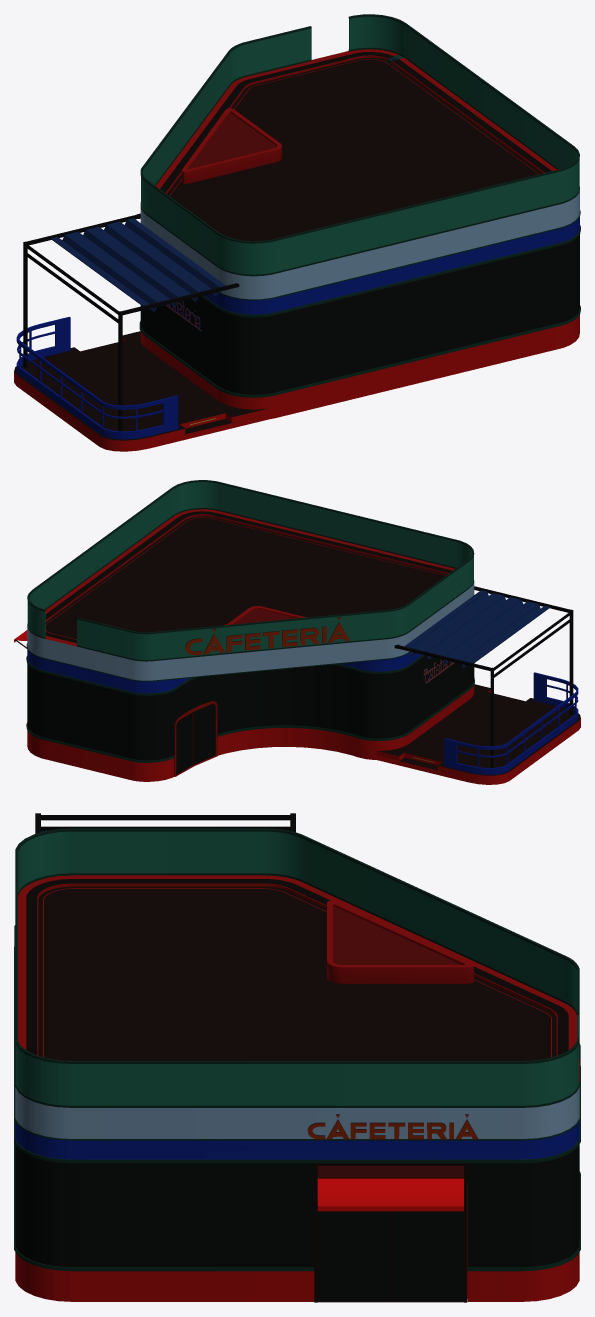
File: Building_Cafe_001_L1.fbx
3 views of the same model, one above another, from view 1: azimuth 30°, elevation 25°; view 2: azimuth 150°, elevation 25°; view 3: azimuth 270°, elevation 25° (orthographic). The views are drawn at different scales.
Visible parts, largest first — view 1: Building_Cafe_001_L1; view 2: Building_Cafe_001_L1; view 3: Building_Cafe_001_L1.
Part boxes in pixels (left/top/right/bottom): Building_Cafe_001_L1: left=14, top=14, right=580, bottom=451; Building_Cafe_001_L1: left=14, top=480, right=580, bottom=784; Building_Cafe_001_L1: left=14, top=813, right=580, bottom=1302.
Size of the model in its own units: 22.37 by 7.27 by 15.58.
